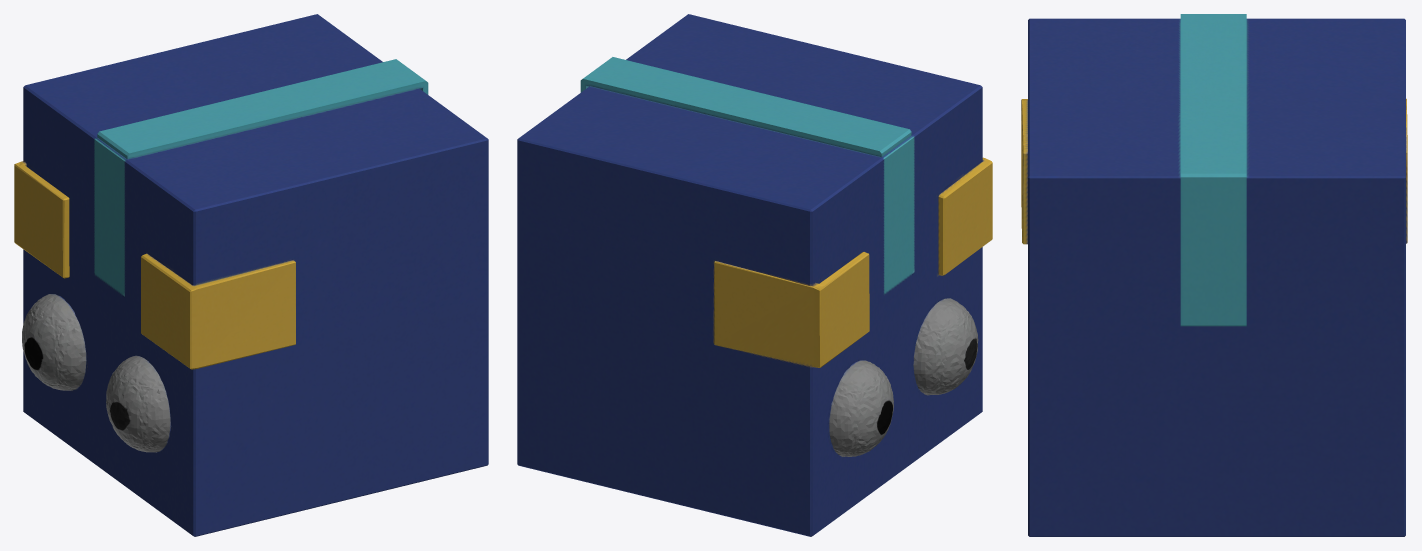
Rendered from cube-crate.gltf.
3 views of the same model, side by side, from view 1: azimuth 30°, elevation 25°; view 2: azimuth 150°, elevation 25°; view 3: azimuth 270°, elevation 25° (orthographic). The views are drawn at different scales.
Visible parts, largest first — view 1: tripo_node_3be9d705-db69-4b03-9677-bb6118568ff7; view 2: tripo_node_3be9d705-db69-4b03-9677-bb6118568ff7; view 3: tripo_node_3be9d705-db69-4b03-9677-bb6118568ff7.
Part boxes in pixels (bbox=[...]): tripo_node_3be9d705-db69-4b03-9677-bb6118568ff7: bbox=[14, 14, 488, 536]; tripo_node_3be9d705-db69-4b03-9677-bb6118568ff7: bbox=[517, 14, 992, 536]; tripo_node_3be9d705-db69-4b03-9677-bb6118568ff7: bbox=[1021, 14, 1407, 536].
Size of the model in its own units: 0.998 by 0.9434 by 0.9004.
1 material, 1 textured.
